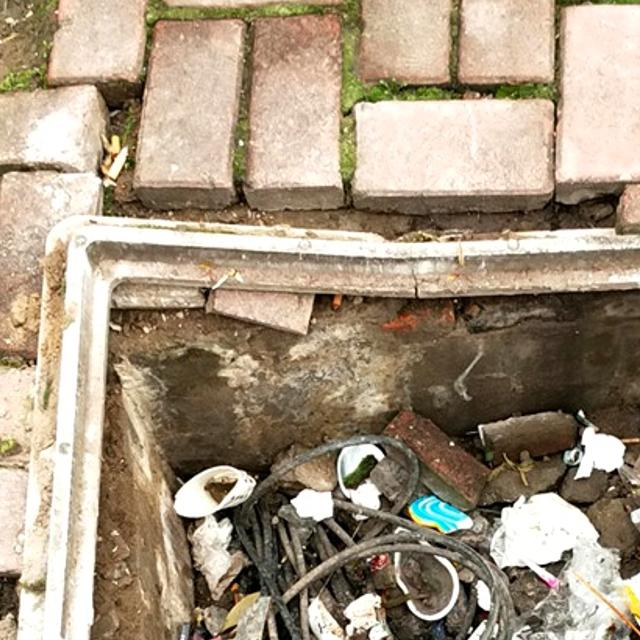lose: (26, 212, 640, 640)
